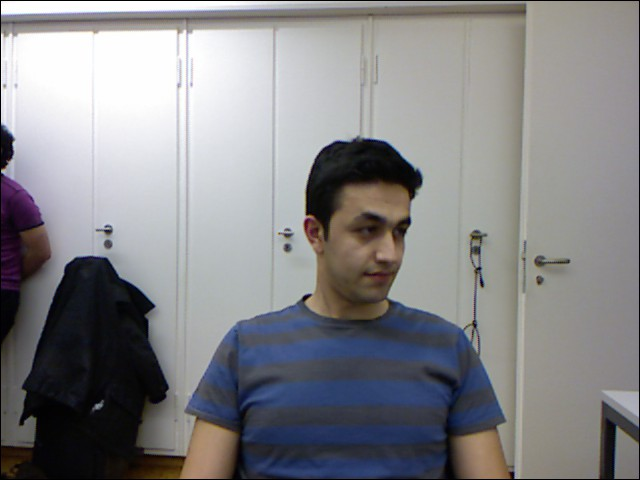deflection: (241, 149, 473, 480)
